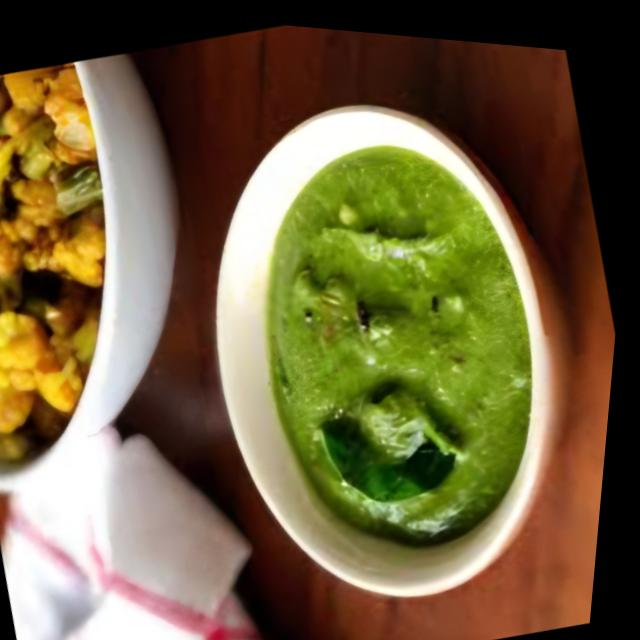GREEN CHUTNEY: (267, 144, 527, 546)
VEGGIES: (0, 61, 106, 463)
